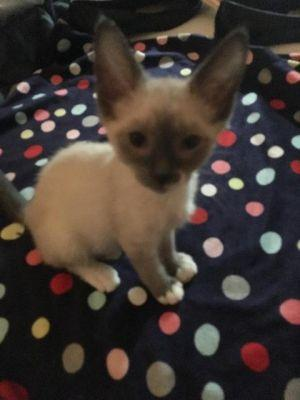siamese: (86, 13, 260, 199)
